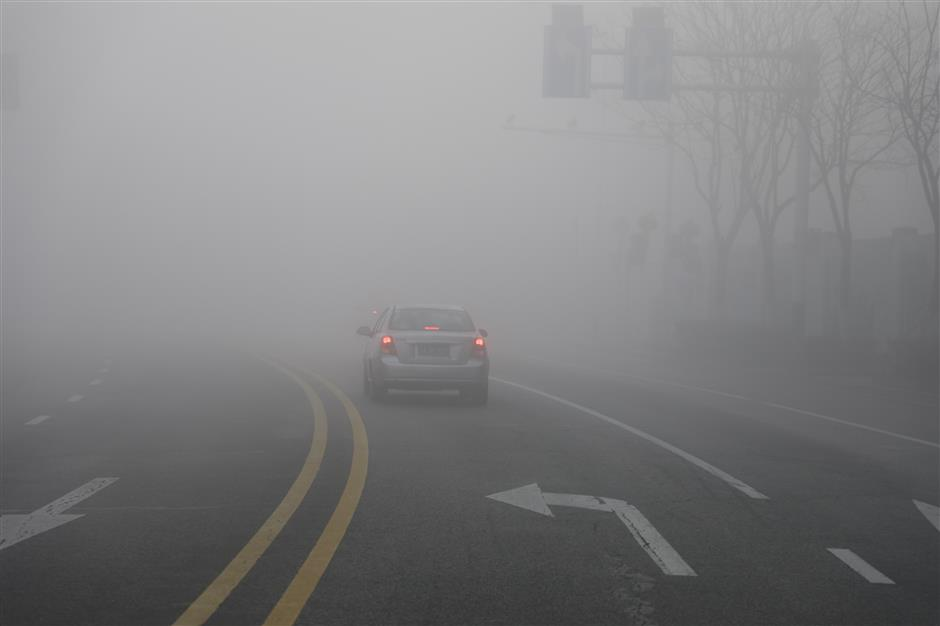car: (356, 303, 488, 405)
